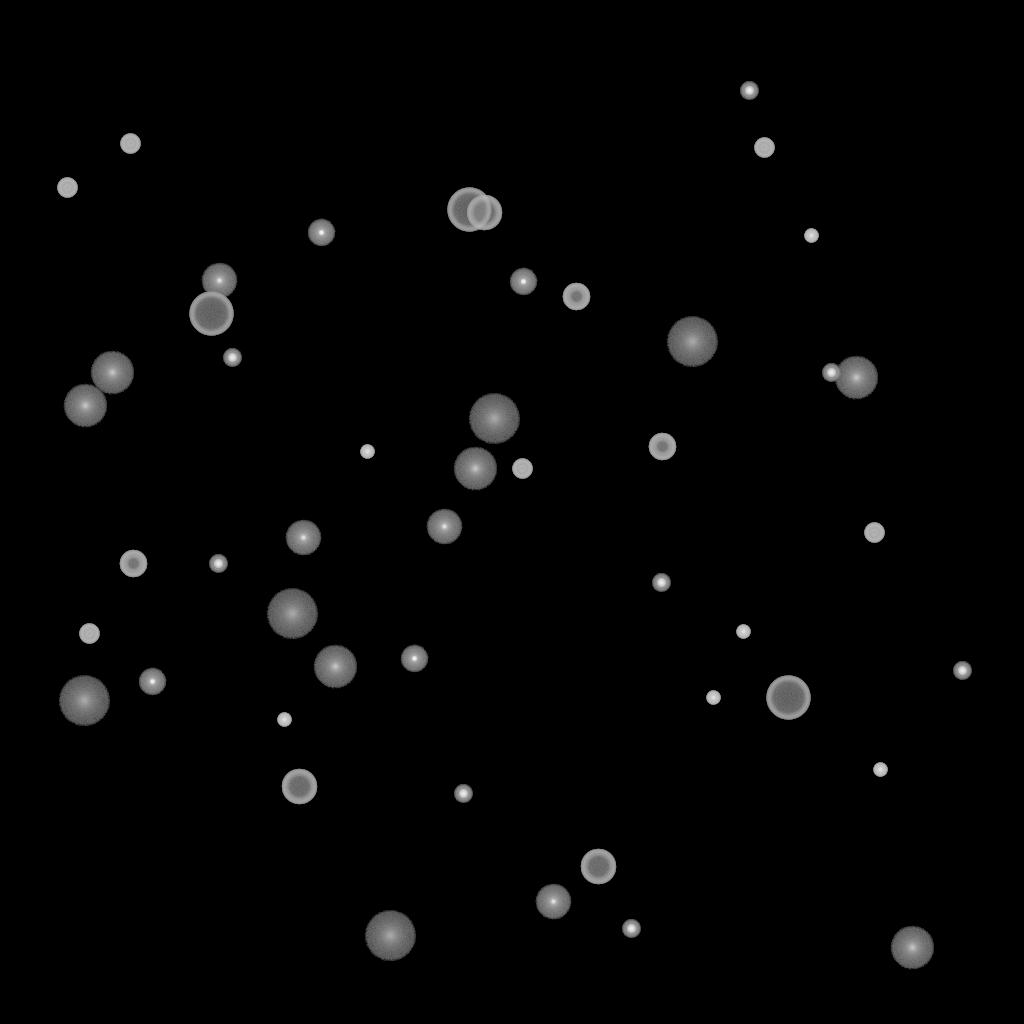depth:-10: (400, 645, 428, 673), (138, 668, 166, 696), (307, 219, 335, 247), (509, 268, 537, 296)
depth:-20: (223, 349, 241, 367), (953, 662, 971, 680), (822, 364, 840, 382), (740, 82, 758, 100), (454, 785, 472, 803), (622, 920, 640, 938), (652, 574, 670, 592), (209, 555, 227, 573)
depth:-30: (736, 625, 750, 639), (706, 691, 720, 705), (804, 229, 818, 243), (873, 763, 887, 777), (360, 445, 374, 459), (277, 713, 291, 727)
depth:-40: (754, 138, 774, 158), (57, 178, 77, 198), (79, 624, 99, 644), (864, 523, 884, 543), (120, 134, 140, 154), (512, 459, 532, 479)
depth:-50: (648, 433, 676, 461), (119, 550, 147, 578), (562, 283, 590, 311)
depth:-60: (580, 849, 616, 885), (466, 195, 502, 231), (281, 769, 317, 805)
depth:-70: (447, 188, 491, 232), (766, 676, 810, 720), (189, 292, 233, 336)
depth:0: (285, 520, 321, 556), (201, 263, 237, 299), (426, 509, 462, 545), (535, 884, 571, 920)
depth:10: (63, 384, 107, 428), (90, 351, 134, 395), (834, 356, 878, 400), (313, 645, 357, 689), (890, 926, 934, 970), (453, 447, 497, 491)
depth:20: (468, 394, 520, 444), (364, 911, 416, 961), (58, 676, 110, 726), (666, 317, 718, 367), (266, 589, 318, 639)
